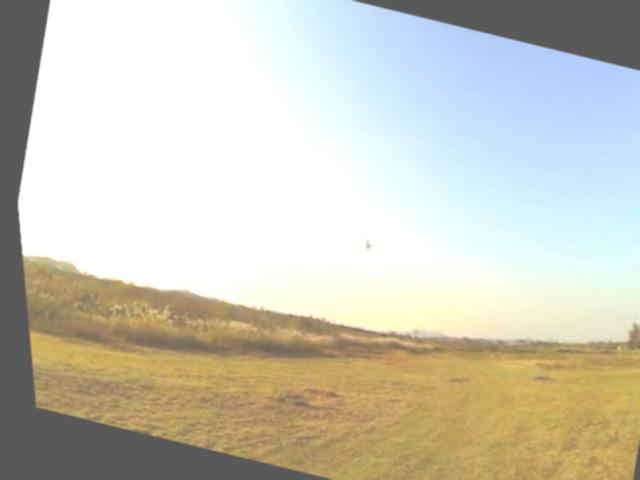uav: (348, 230, 377, 262)
